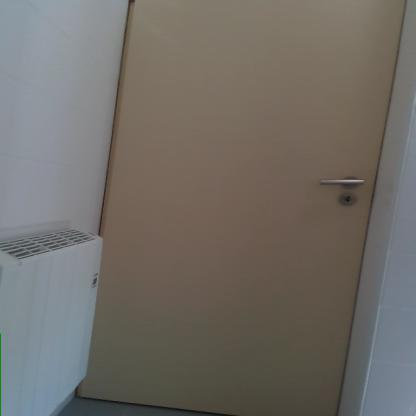door: (109, 0, 377, 413)
lever: (314, 176, 368, 188)
